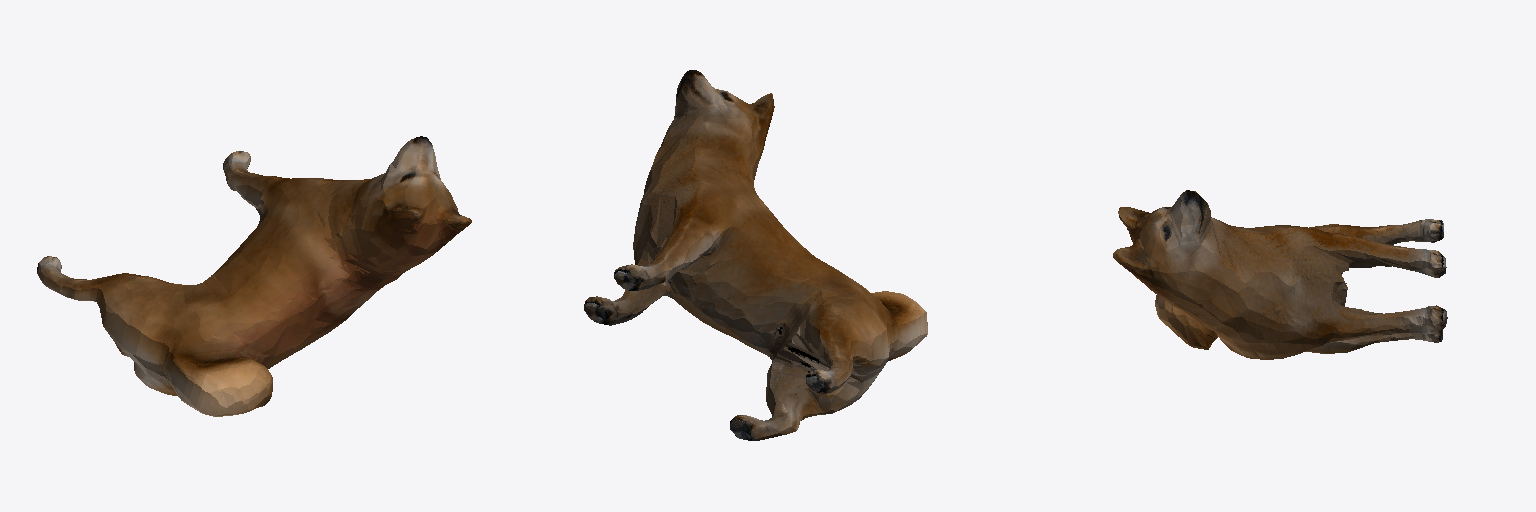
The picture shows the model from 3 angles: view 1: azimuth 30°, elevation 25°; view 2: azimuth 150°, elevation 25°; view 3: azimuth 270°, elevation 25°; orthographic projection.
Size of the model in its own units: 0.519 by 0.429 by 0.5289.
Materials: 1 (1 with a texture image).